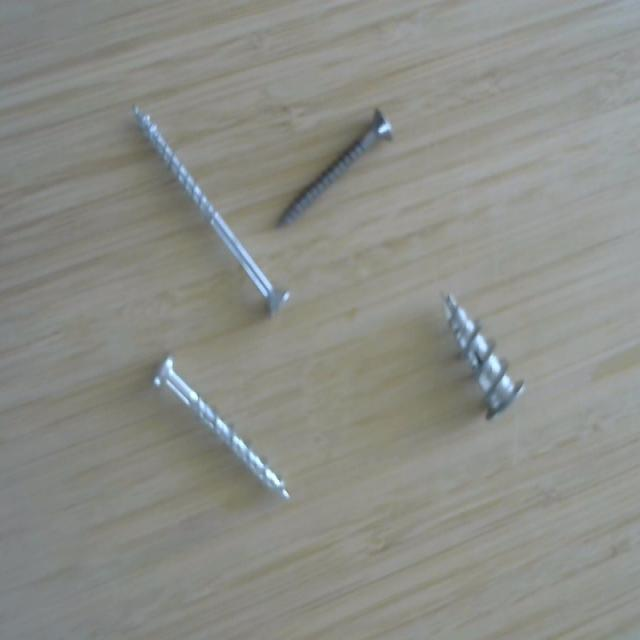Black screw: (267, 98, 401, 239)
Long screw: (122, 91, 301, 332)
Medium screw: (143, 344, 302, 511)
Short screw: (434, 280, 539, 435)
